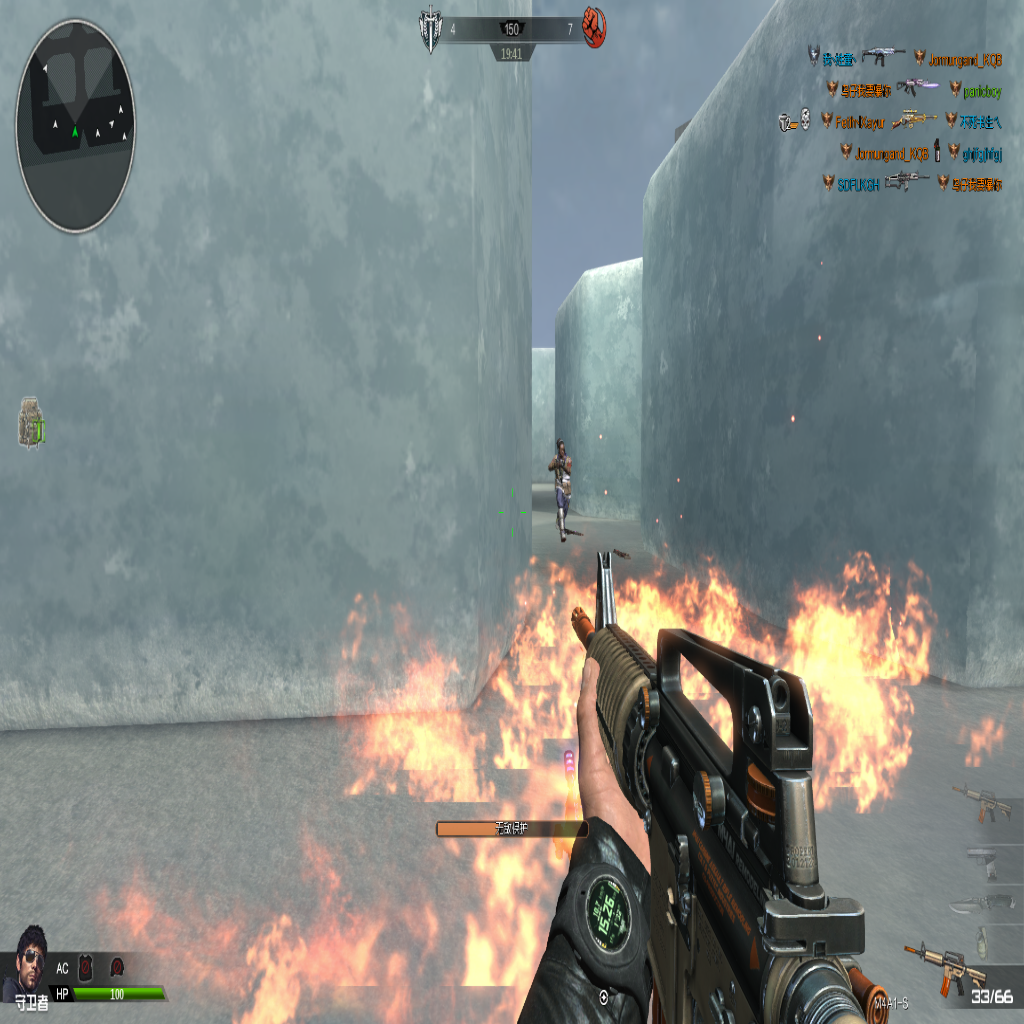tt: (550, 436, 572, 541)
